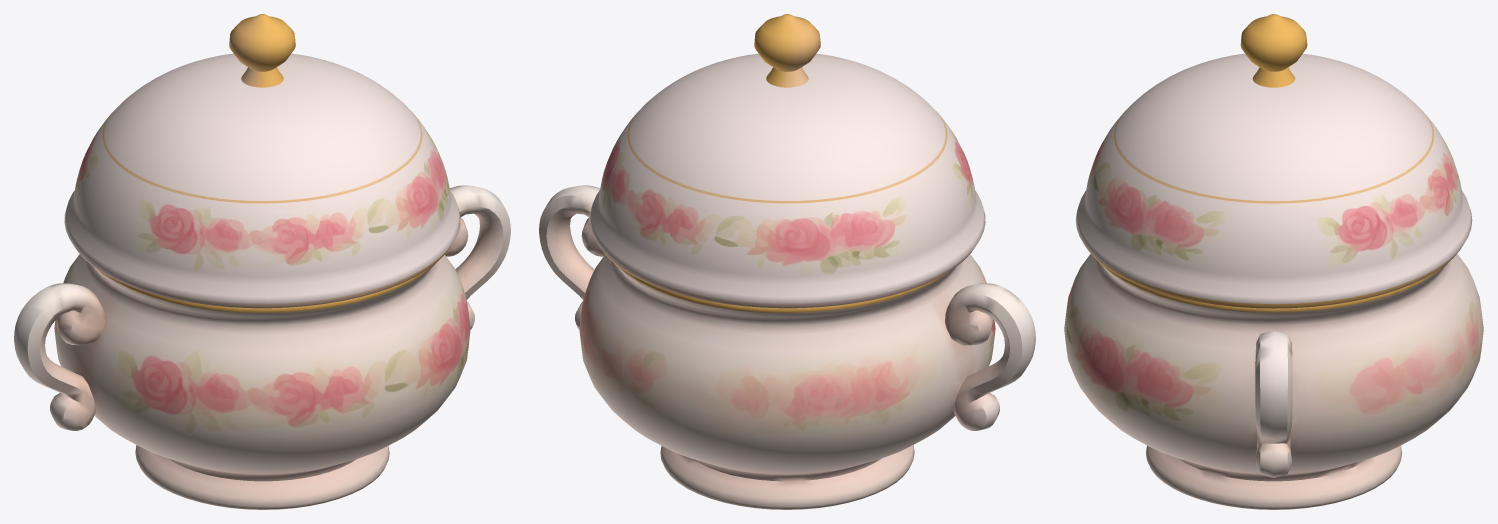
The model's file is sugar_bowl_lidded_v3.glb.
The picture shows the model from 3 angles, left to right: view 1: azimuth 30°, elevation 25°; view 2: azimuth 150°, elevation 25°; view 3: azimuth 270°, elevation 25°; orthographic projection.
Parts seen in each view (by area): view 1: sugar_bowl; view 2: sugar_bowl; view 3: sugar_bowl.
Boxes of the visible parts, bbox=[...] form: sugar_bowl: bbox=[14, 14, 510, 509]; sugar_bowl: bbox=[539, 14, 1035, 509]; sugar_bowl: bbox=[1064, 14, 1483, 509].
Size of the model in its own units: 2.96 by 2.57 by 2.2.
2 materials, 2 textured.
